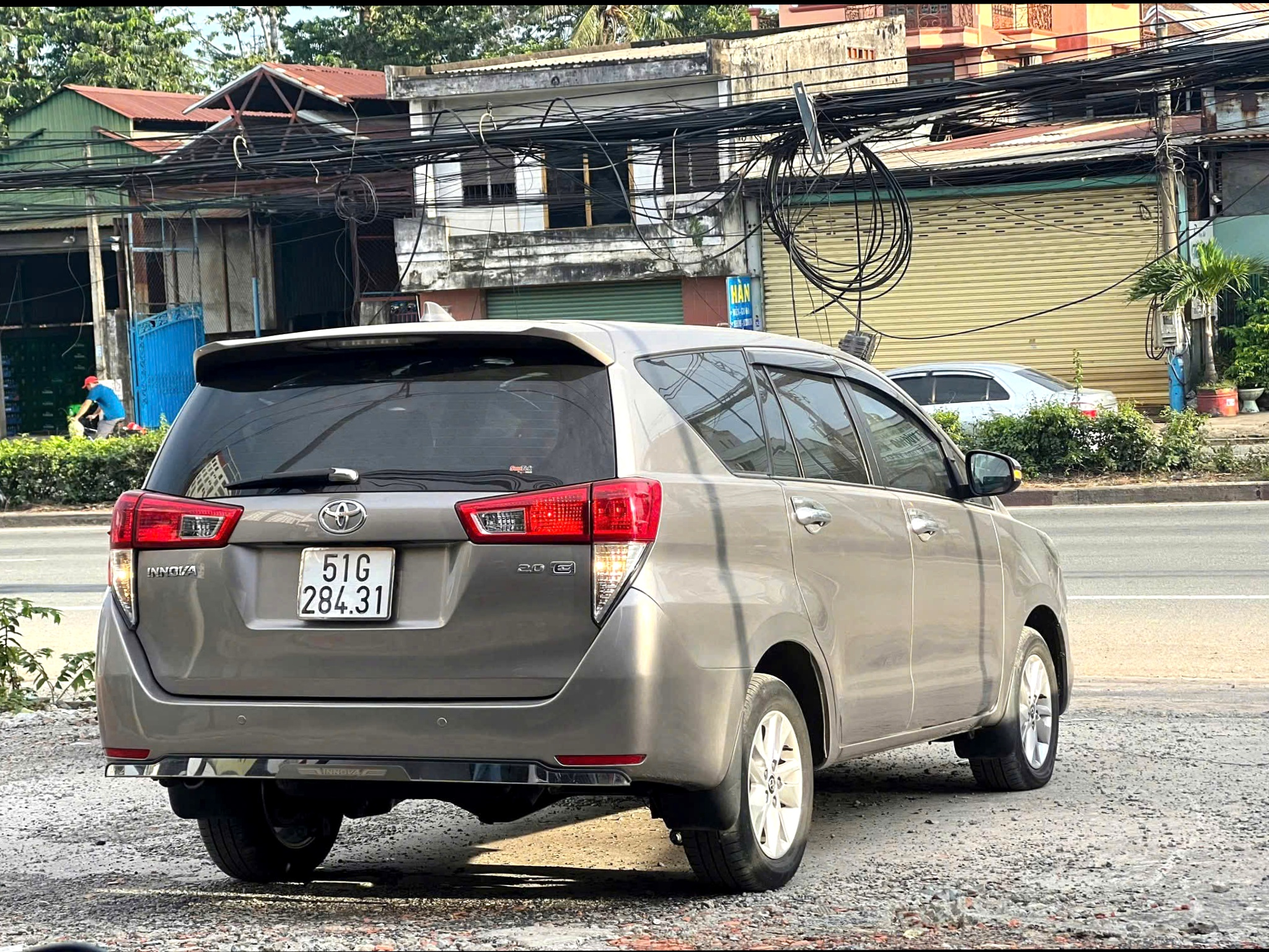Bien-so: (292, 542, 407, 624)
